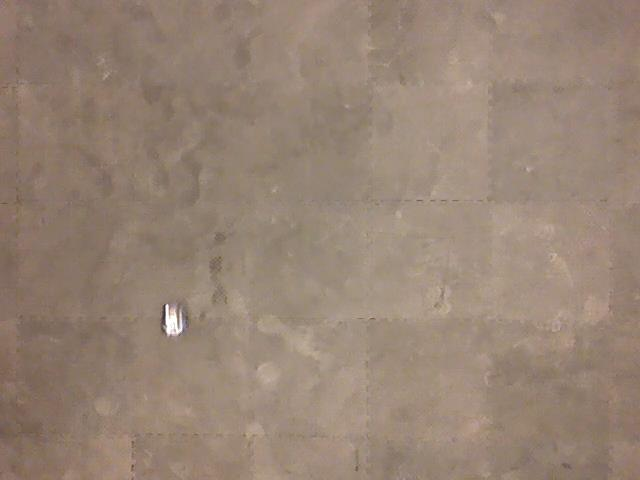Agent: (159, 299, 188, 339)
